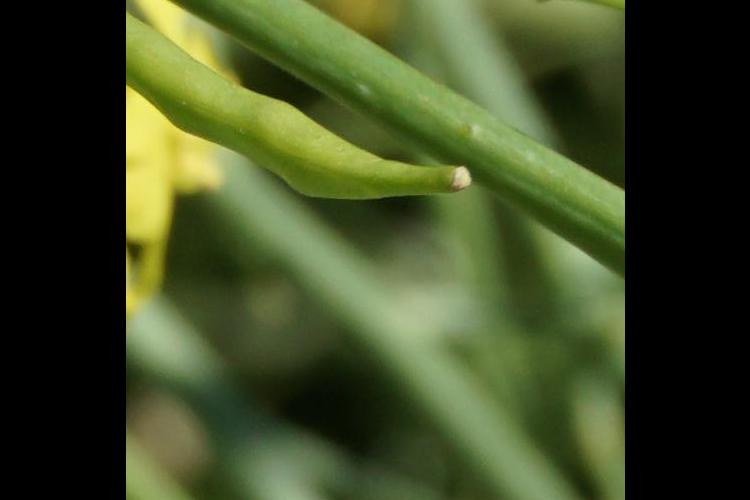pod: (133, 27, 482, 226)
